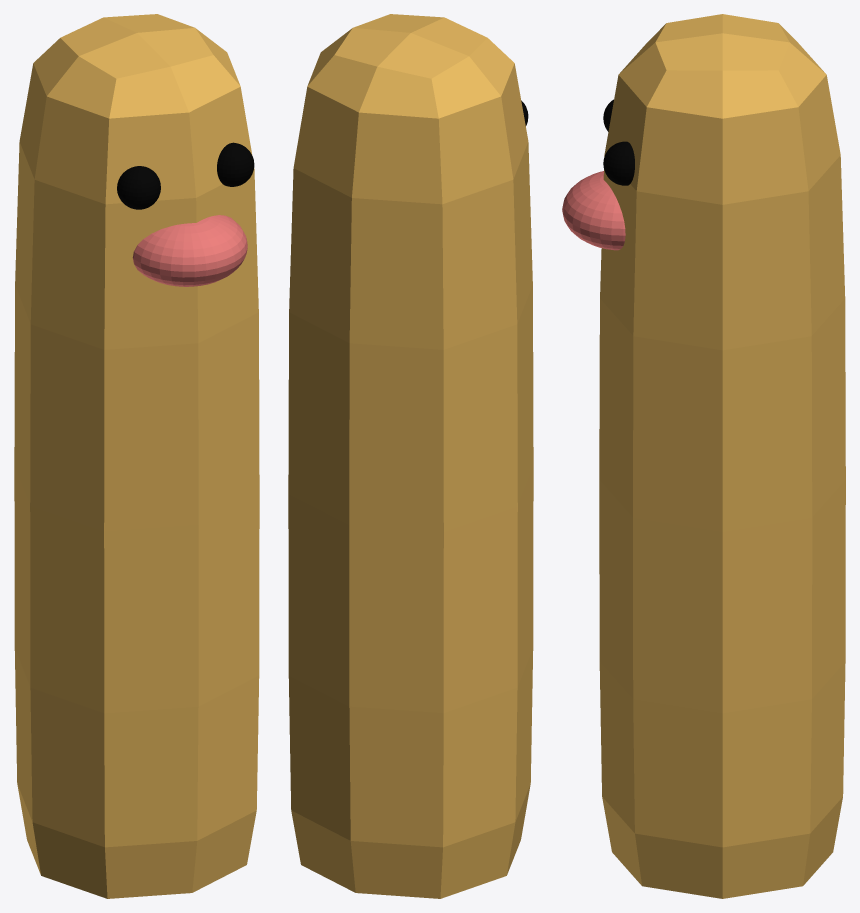
File: mole.fbx
The picture shows the model from 3 angles, left to right: view 1: azimuth 30°, elevation 25°; view 2: azimuth 150°, elevation 25°; view 3: azimuth 270°, elevation 25°; orthographic projection.
Parts seen in each view (by area): view 1: Cube, Sphere.001, Sphere; view 2: Cube; view 3: Cube, Sphere.001, Sphere.
Boxes of the visible parts, box(x1,y1,x2,y2) form: Cube: box(14, 14, 259, 898); Sphere.001: box(132, 215, 247, 286); Sphere: box(117, 142, 254, 209); Cube: box(288, 14, 533, 898); Cube: box(599, 14, 845, 898); Sphere.001: box(562, 171, 625, 250); Sphere: box(603, 99, 634, 185).
Bounding box in the file's own units: 0.1833 × 0.6784 × 0.211.
